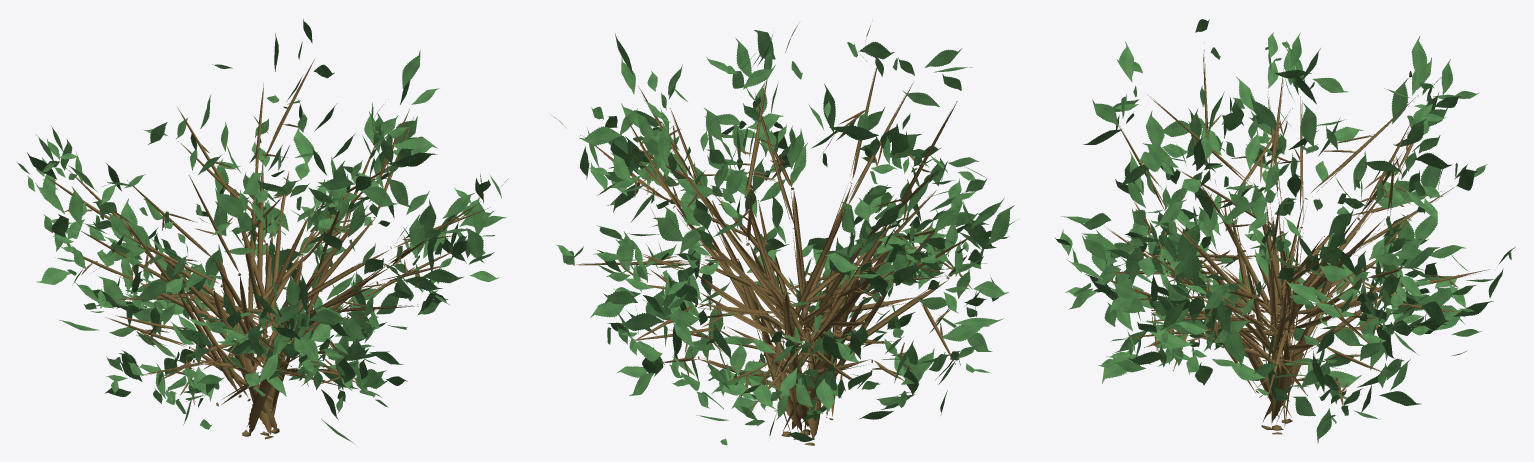
The model's file is BUSH_01_Broadleaf_Round.glb.
The picture shows the model from 3 angles, left to right: view 1: azimuth 30°, elevation 25°; view 2: azimuth 150°, elevation 25°; view 3: azimuth 270°, elevation 25°; orthographic projection. The views are drawn at different scales.
Visible parts, largest first — view 1: BUSH_01_Broadleaf_Round__FoliageCards, BUSH_01_Broadleaf_Round__WoodyStems; view 2: BUSH_01_Broadleaf_Round__FoliageCards, BUSH_01_Broadleaf_Round__WoodyStems; view 3: BUSH_01_Broadleaf_Round__FoliageCards, BUSH_01_Broadleaf_Round__WoodyStems.
Boxes of the visible parts, x1,y1,x2,y2 form: BUSH_01_Broadleaf_Round__FoliageCards: (17, 19, 508, 443); BUSH_01_Broadleaf_Round__WoodyStems: (46, 59, 490, 439); BUSH_01_Broadleaf_Round__FoliageCards: (550, 22, 1014, 445); BUSH_01_Broadleaf_Round__WoodyStems: (567, 66, 976, 445); BUSH_01_Broadleaf_Round__FoliageCards: (1055, 19, 1515, 442); BUSH_01_Broadleaf_Round__WoodyStems: (1104, 42, 1488, 434).
Bounding box in the file's own units: 1.51 × 1.15 × 1.33.
Materials: 1 (1 with a texture image).
